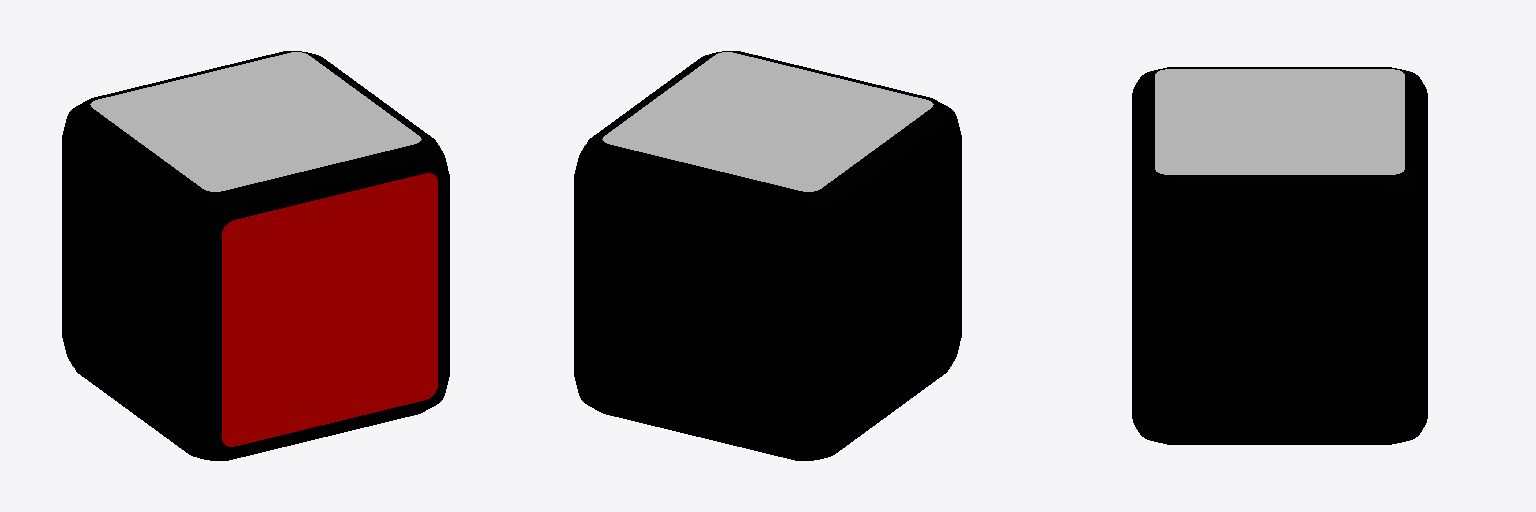
File: edge_rw.obj
3 renders of one model, left to right at view 1: azimuth 30°, elevation 25°; view 2: azimuth 150°, elevation 25°; view 3: azimuth 270°, elevation 25°, orthographic.
Visible parts, largest first — view 1: Cube; view 2: Cube; view 3: Cube.
Boxes of the visible parts, <box> form: Cube: <box>62,51,449,460</box>; Cube: <box>574,51,961,460</box>; Cube: <box>1132,67,1427,444</box>.
Bounding box in the file's own units: 2 × 2 × 2.